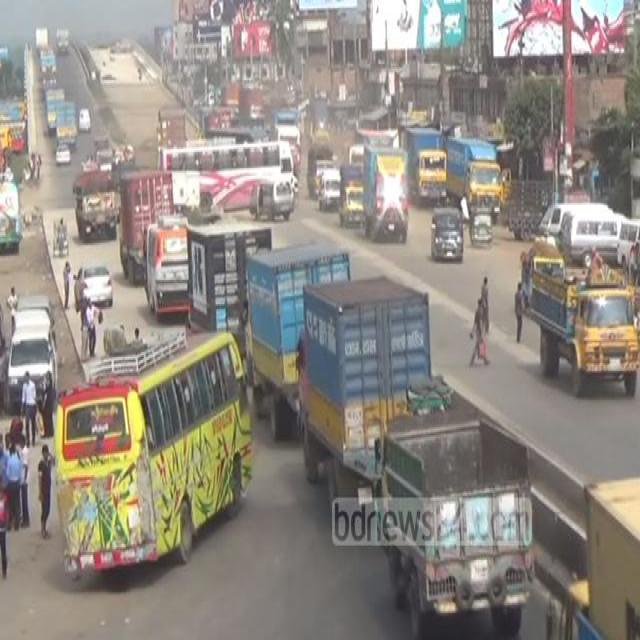16-Wheelers: (377, 381, 535, 638)
Bus: (53, 326, 253, 581)
